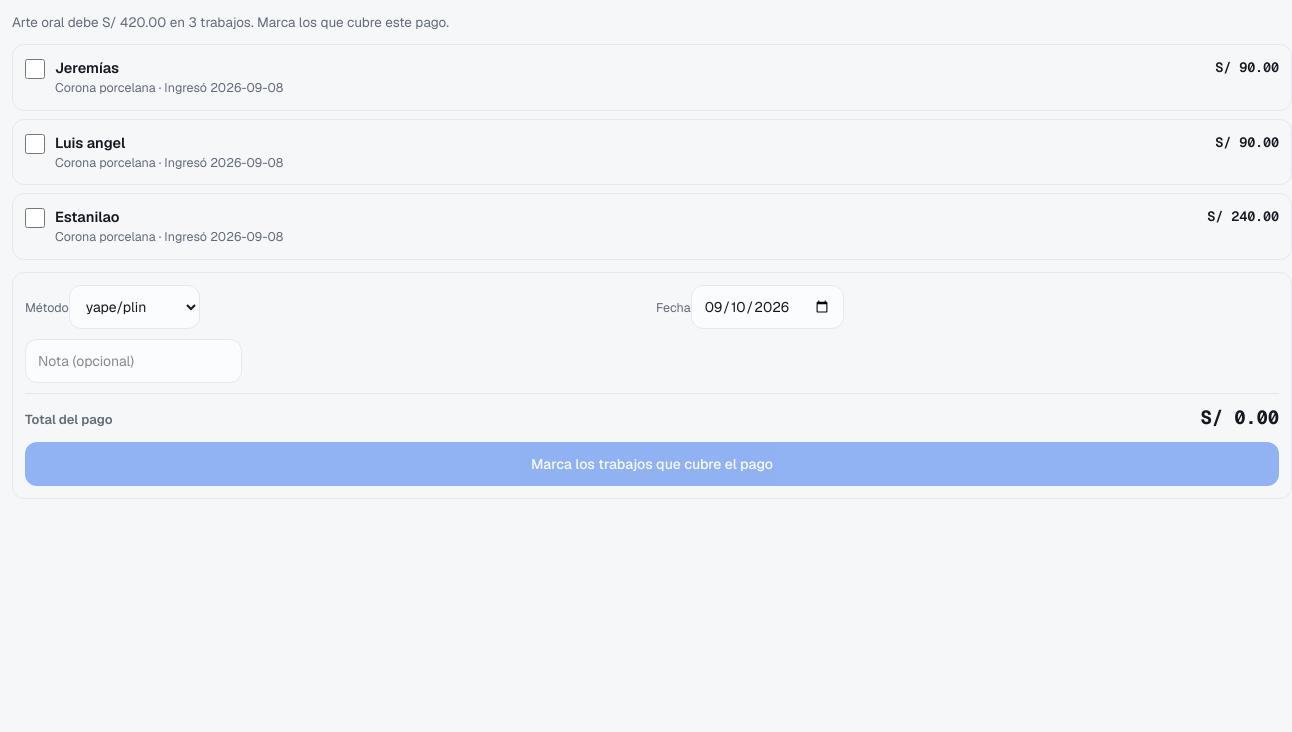
Test: FormularioDeCobro › permite cobrar solo una parte de un trabajo
The width and height of the screenshot is (1292, 732).
Click the checkbox labelled "Jeremías Corona porcelana · Ingresó 2026-09-08 S/ 90.00" at (35, 69), box [25, 59, 45, 79]
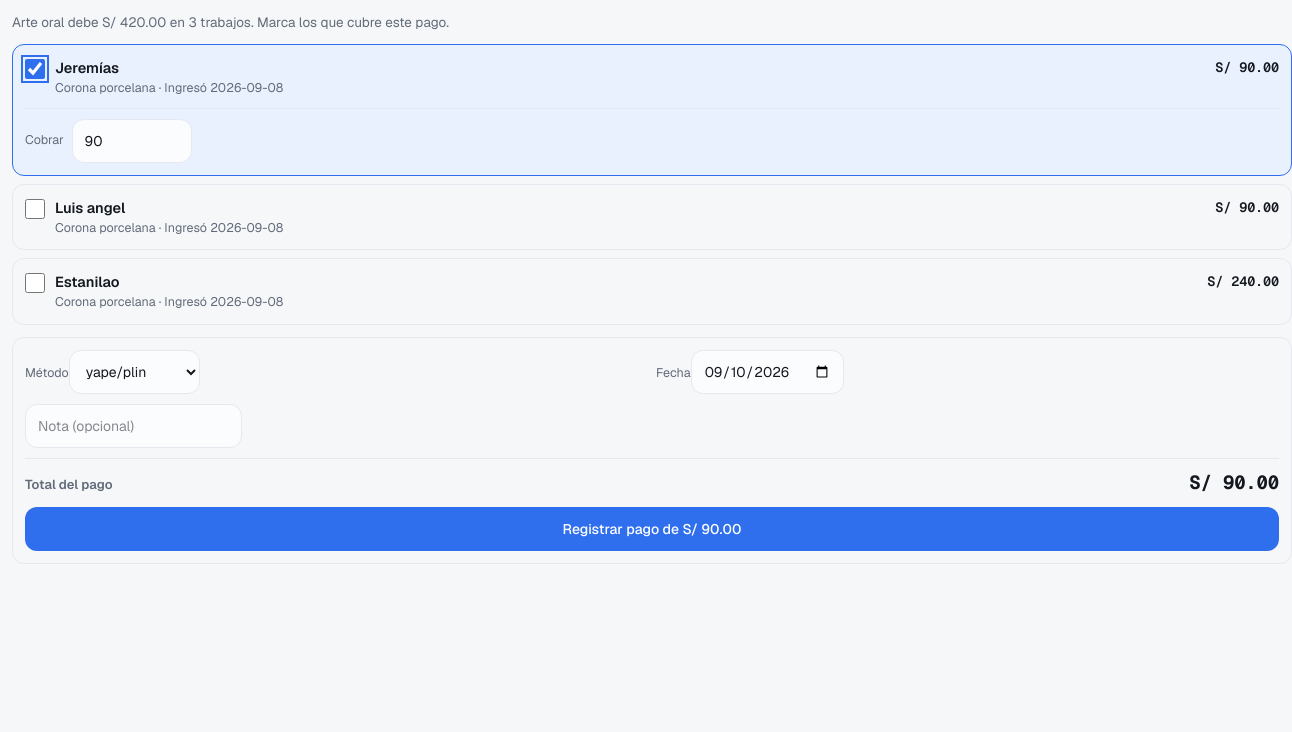
Click the checkbox labelled "Luis angel Corona porcelana · Ingresó 2026-09-08 S/ 90.00" at (35, 209), box [25, 199, 45, 219]
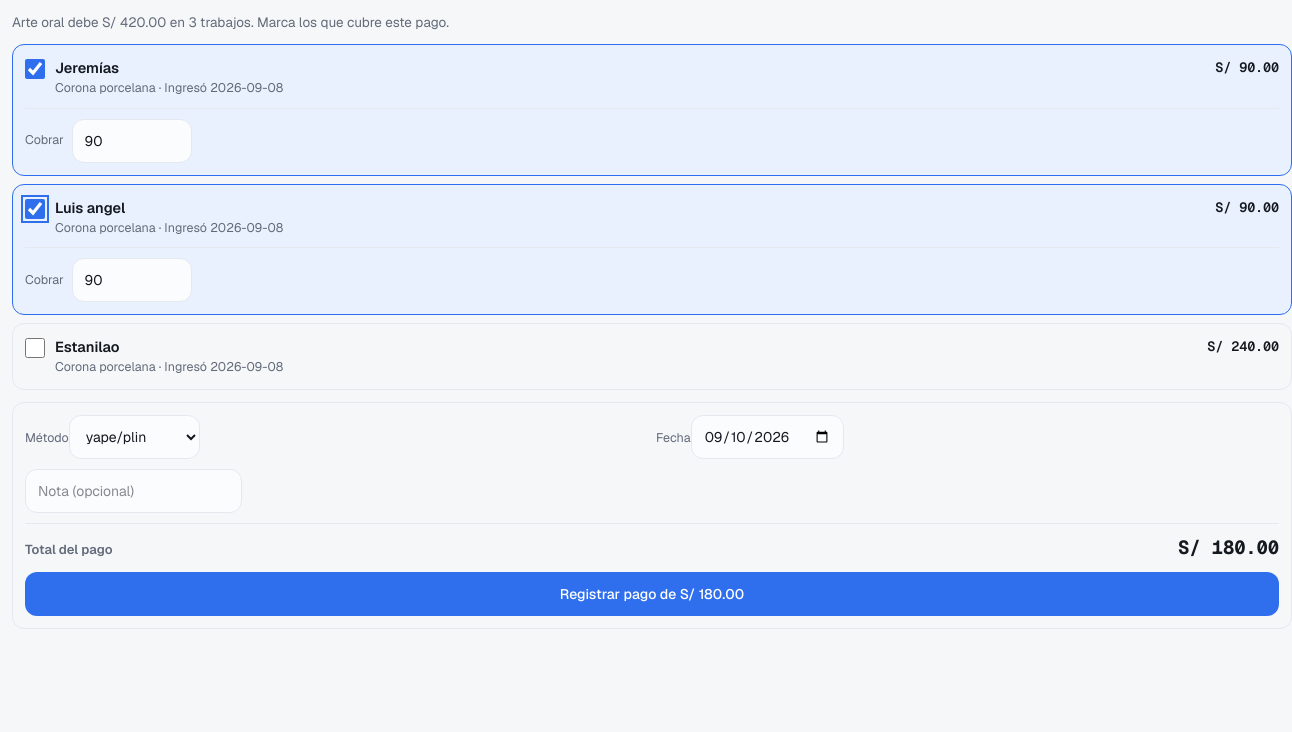
Click the checkbox labelled "Estanilao Corona porcelana · Ingresó 2026-09-08 S/ 240.00" at (35, 348), box [25, 338, 45, 358]
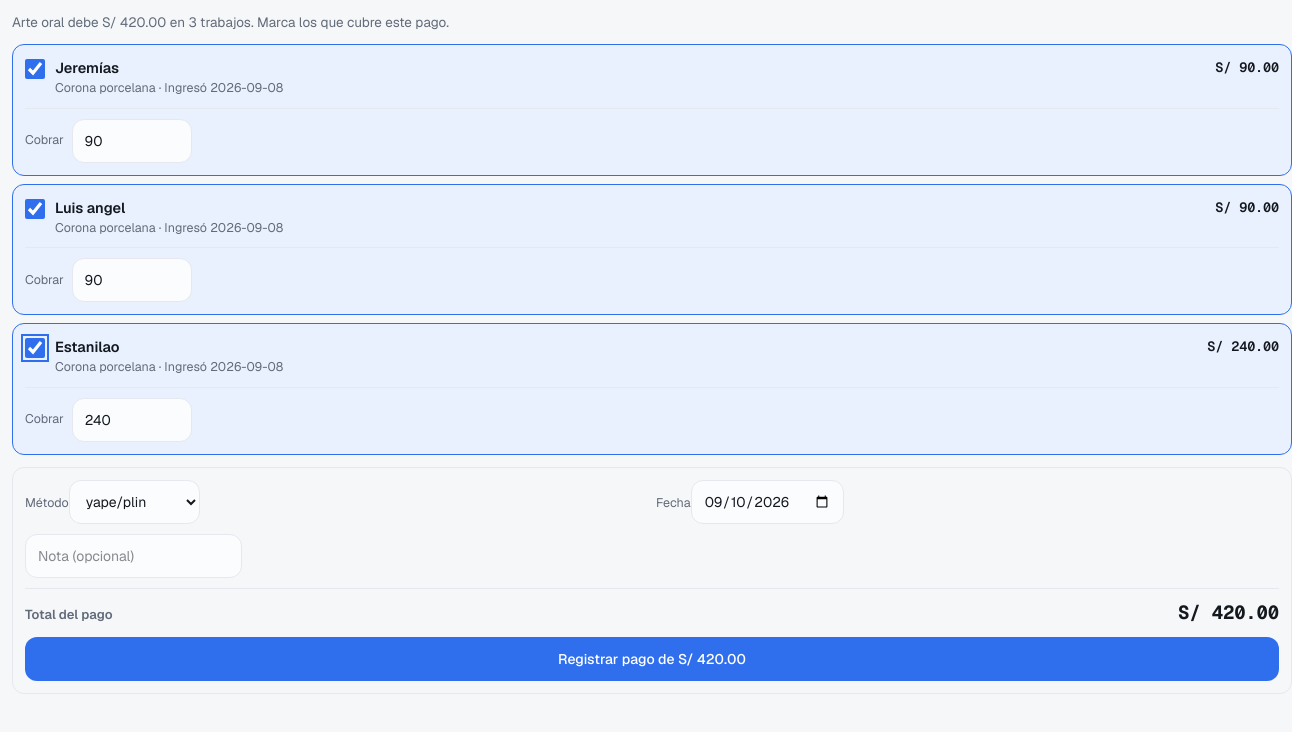
Replace the text in the number field named "importe para estanilao" with "20" at (132, 420), box [72, 398, 192, 442]
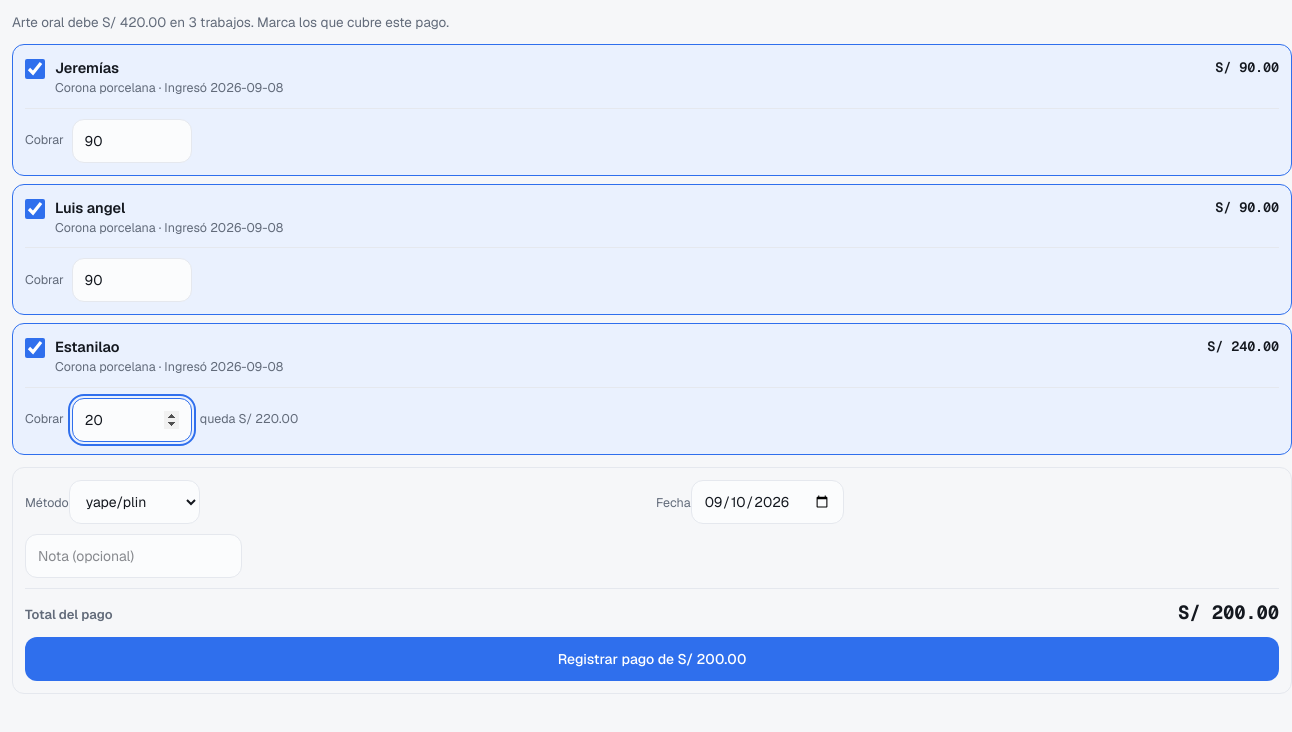
Now the button "Registrar pago de S/ 200.00" is shown, box [25, 637, 1279, 681]
